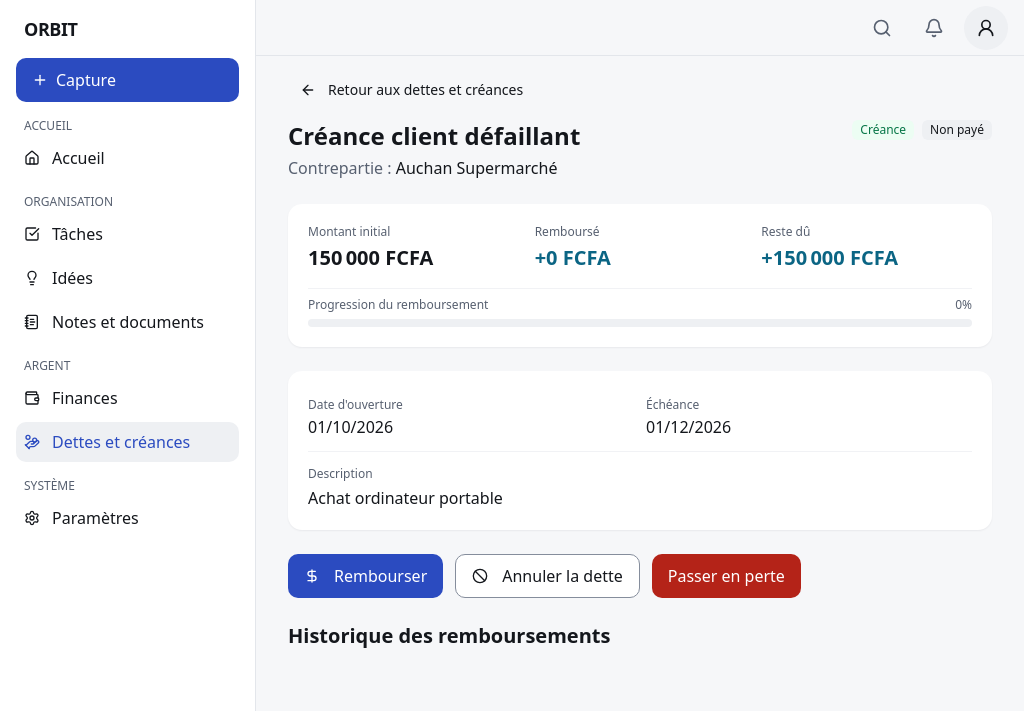
Finance - Dettes et créances (/finance/debts) › writes off an uncollectible receivable
Expected: the heading "Créance client défaillant" is shown, [288,120,580,152]
Click the button "Passer en perte". click: (726, 576)
box: [652,554,801,598]
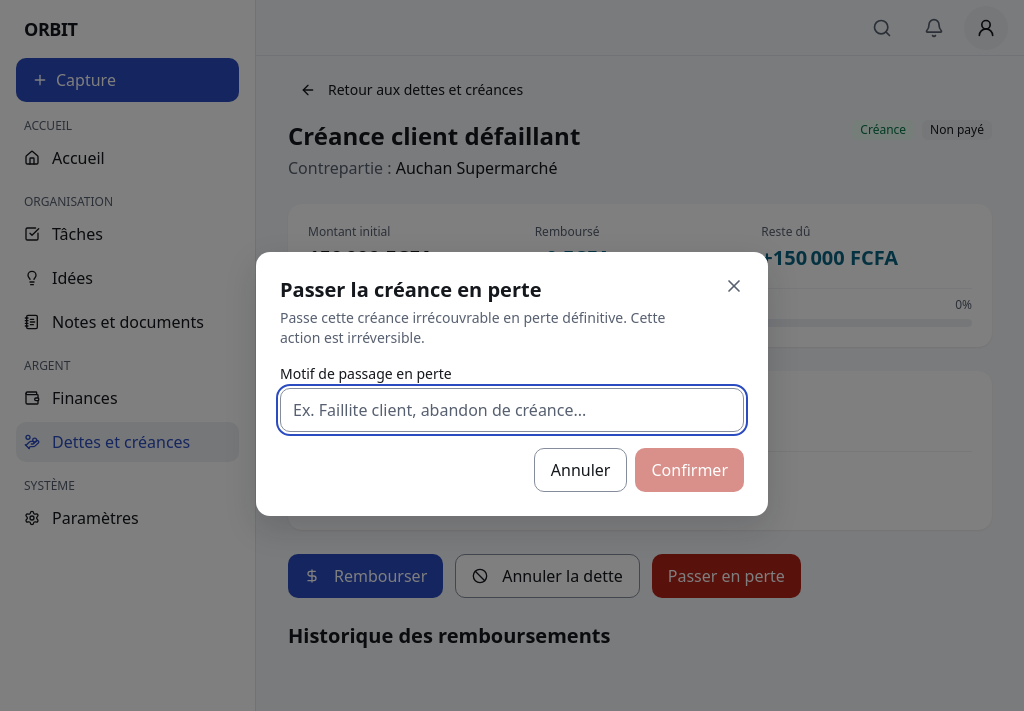
Expected: the heading "Passer la créance en perte" is shown, [280,276,542,303]
Type "Liquidation judiciaire du client" into the field labelled "Motif de passage en perte". click: (512, 410)
box: [280,388,744,432]
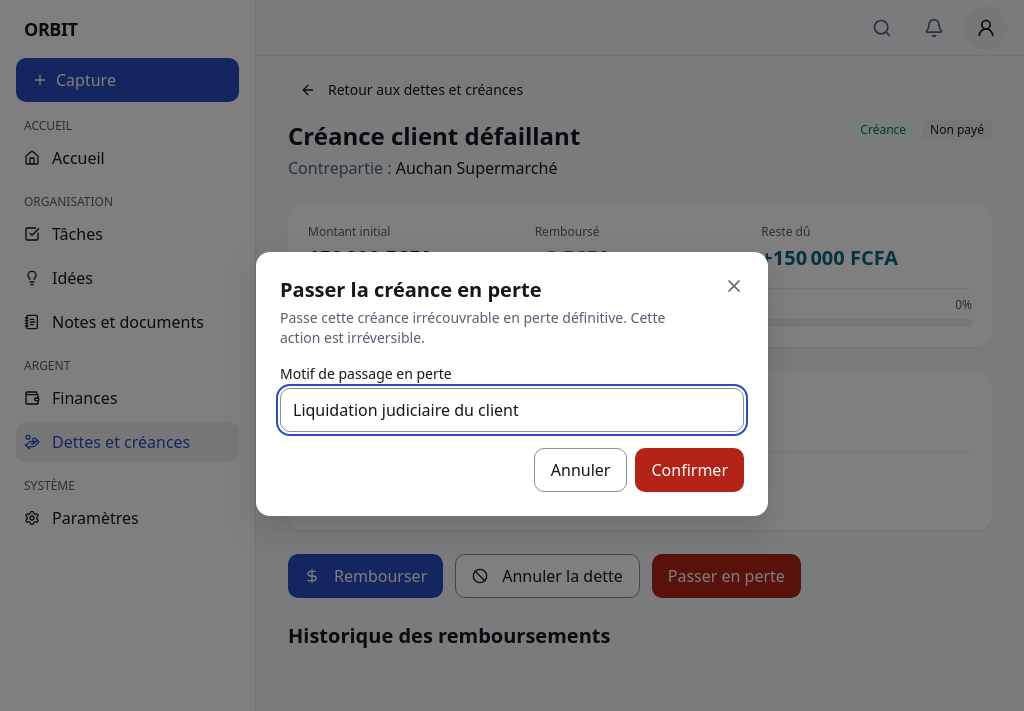
Click the button "Confirmer". click: (690, 470)
box: [636,448,744,492]
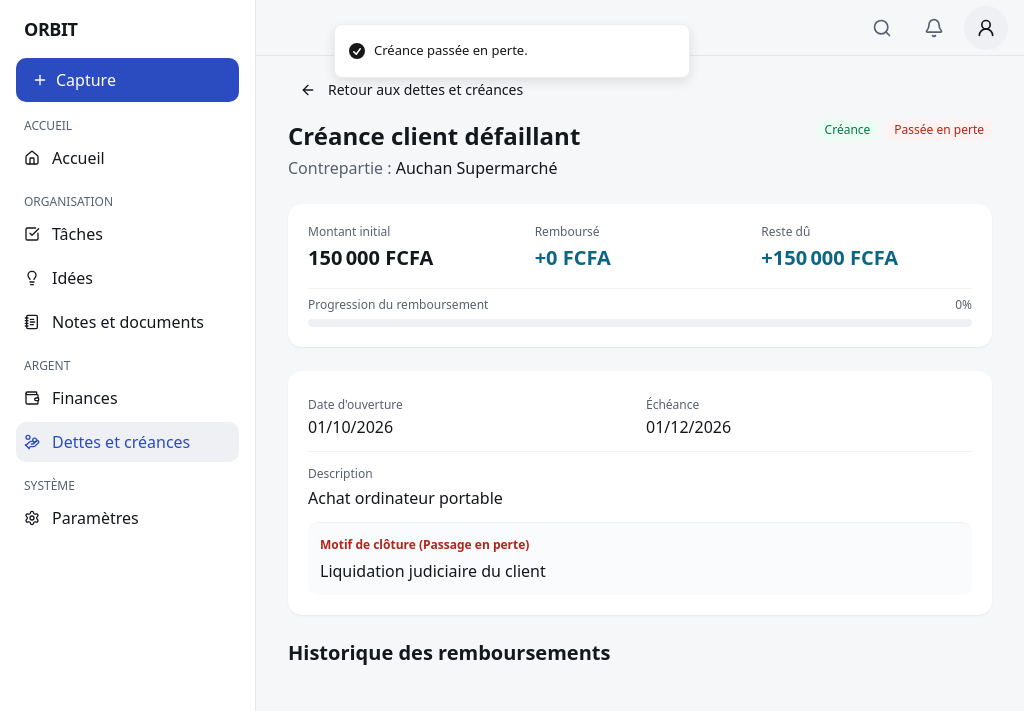
Expected: the heading "Passer la créance en perte" is gone
Expected: the text "Passée en perte" is shown, [886,120,992,140]
Expected: the text "Liquidation judiciaire du client" is shown, [320,560,546,582]
